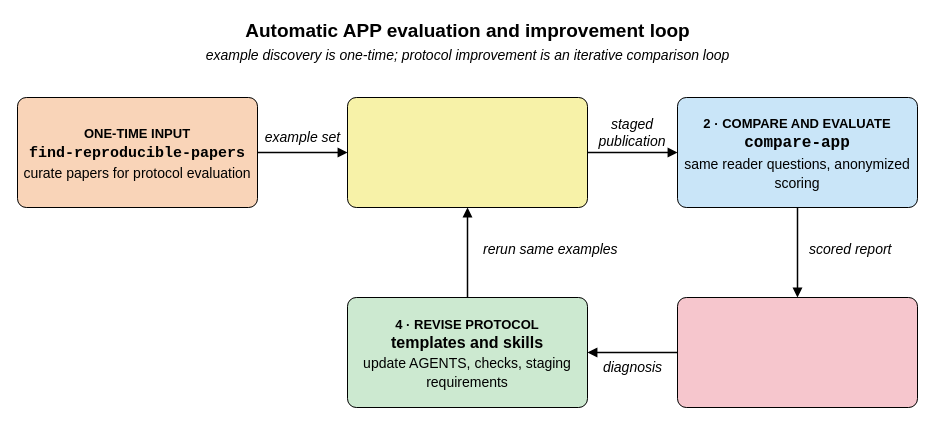
Image size: 935x425. Some labels were removed from this diagram. Here are the shapes that lost their labels. From the top down, the box of each, then its label:
(346, 96, 588, 208): 1 · REBUILD STAGING simulate-publication simulated author plus publishing agent
(676, 296, 918, 408): 3 · DIAGNOSE GAPS evaluation report missing anchors, generic answers, blockers
